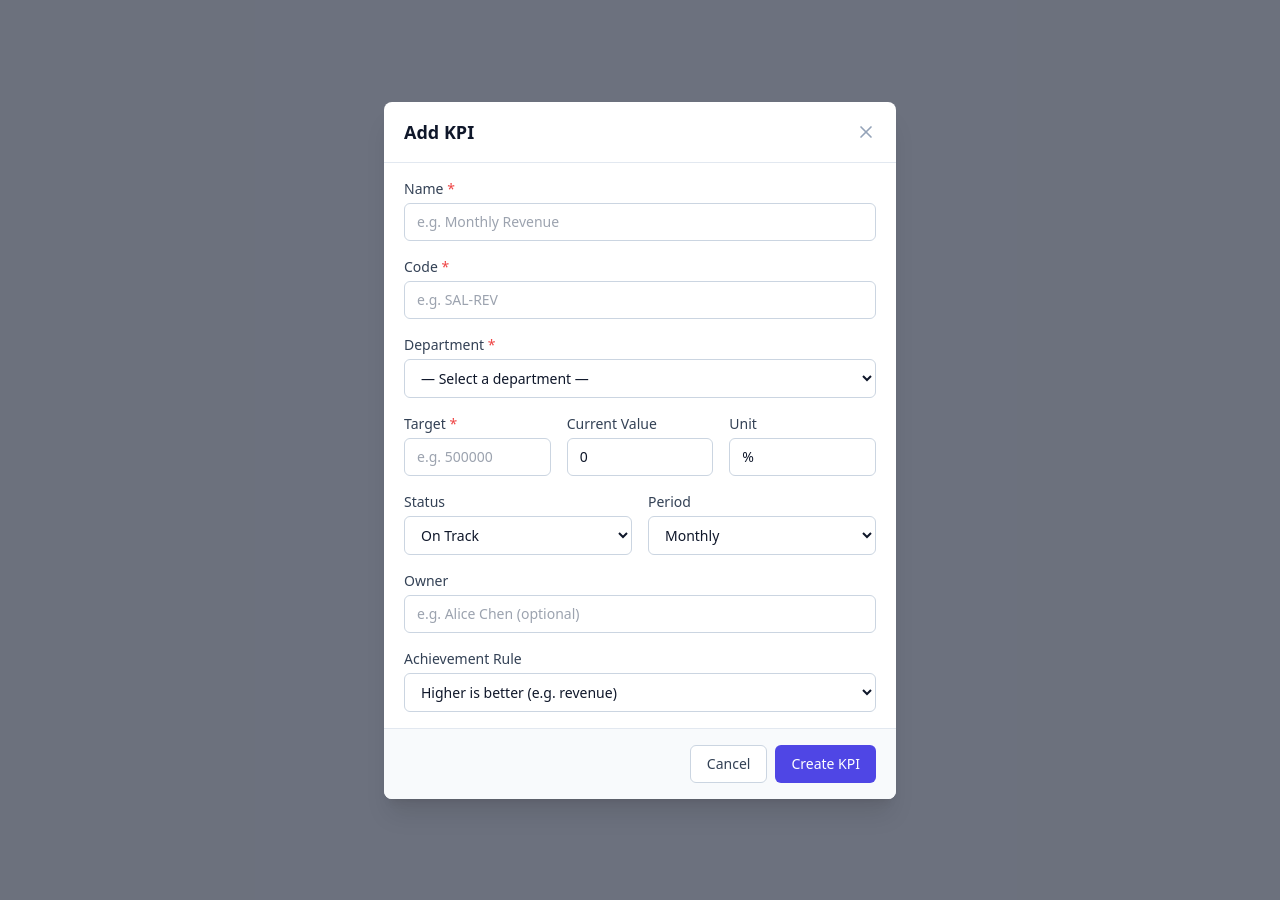
Test case: Department and KPI Modals › KpiFormModal › validates required fields: name, code, department, target
The image size is (1280, 900).
Click the button "Create KPI": (826, 764) [775,744,876,782]
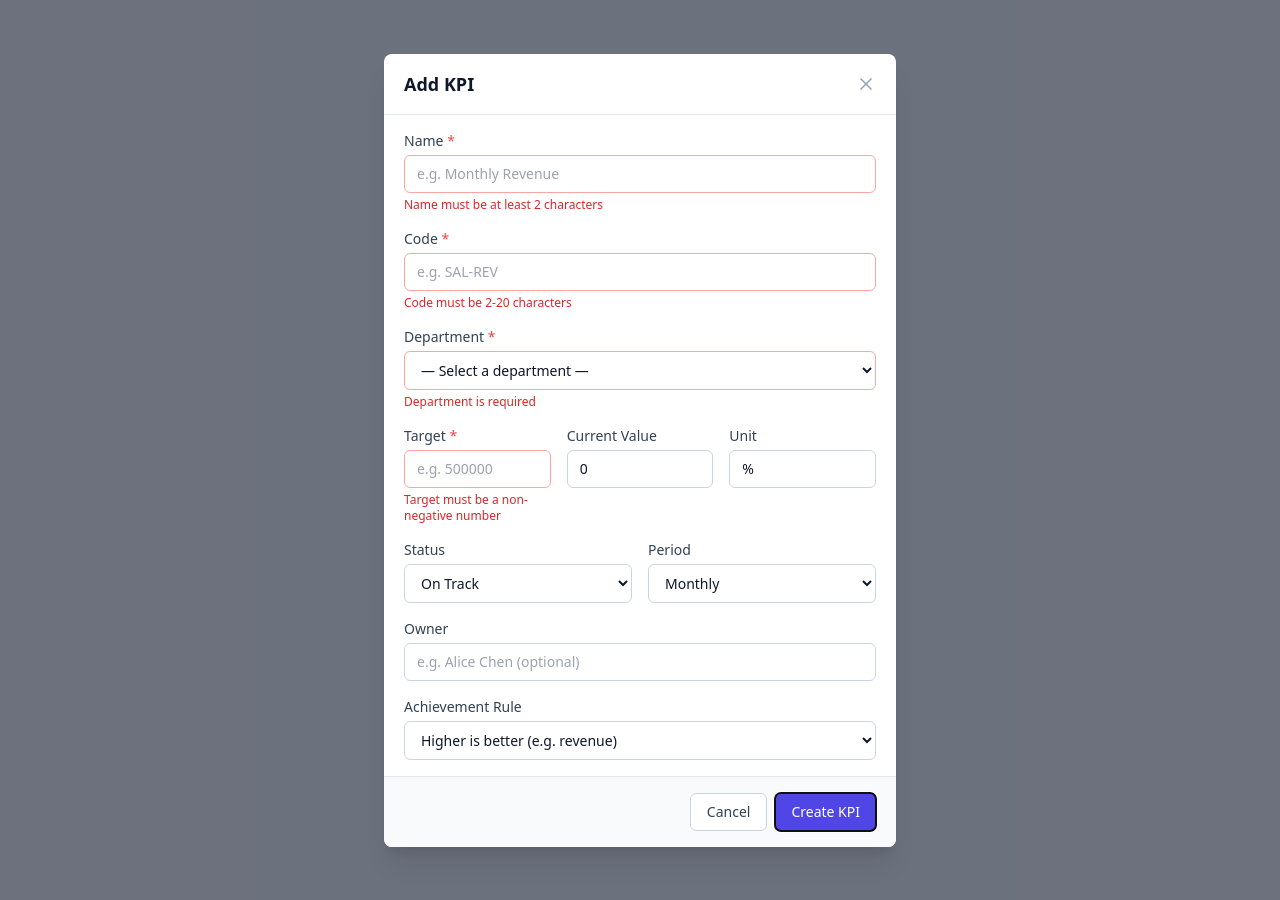
Now the text "Name must be at least 2 characters" is shown, box [404,196,603,212]
Now the text "Code must be 2-20 characters" is shown, box [404,294,572,310]
Now the text "Department is required" is shown, box [404,392,536,410]
